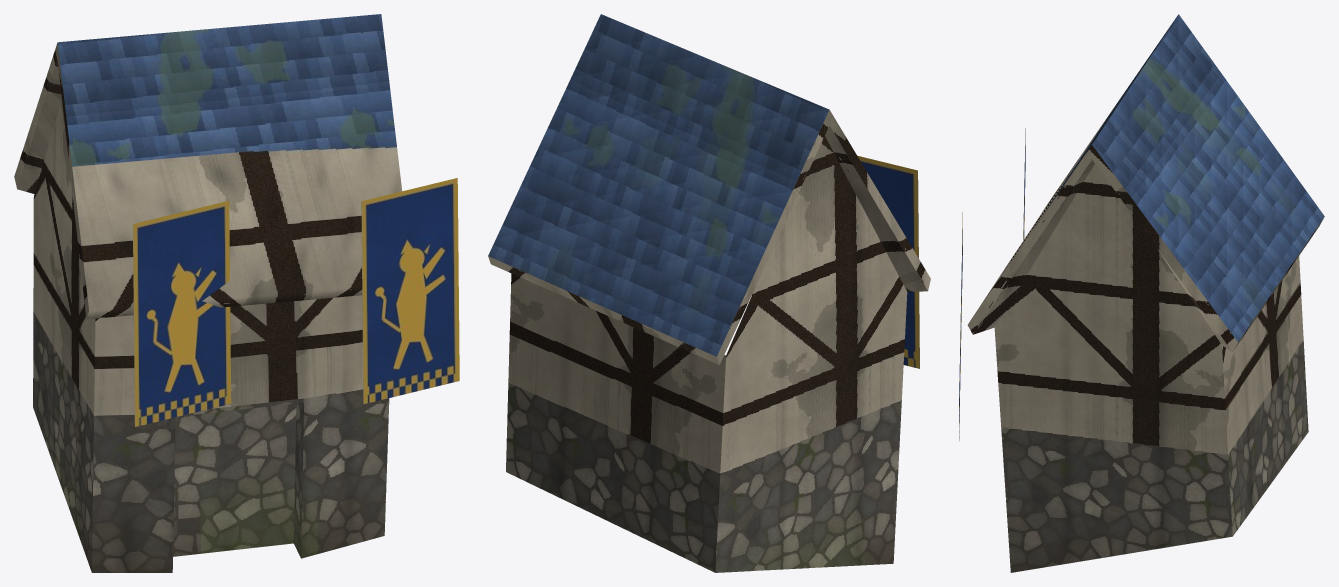
The model's file is house_09_card.glb.
3 views of the same model, side by side, from view 1: azimuth 30°, elevation 25°; view 2: azimuth 150°, elevation 25°; view 3: azimuth 270°, elevation 25° (orthographic). The views are drawn at different scales.
Parts seen in each view (by area): view 1: house_09_game_card; view 2: house_09_game_card; view 3: house_09_game_card.
Boxes of the visible parts, <box> form: house_09_game_card: <box>14,14,459,572</box>; house_09_game_card: <box>488,14,930,572</box>; house_09_game_card: <box>959,14,1324,572</box>.
Size of the model in its own units: 5.05 by 6.81 by 4.95.
Materials: 1 (1 with a texture image).
